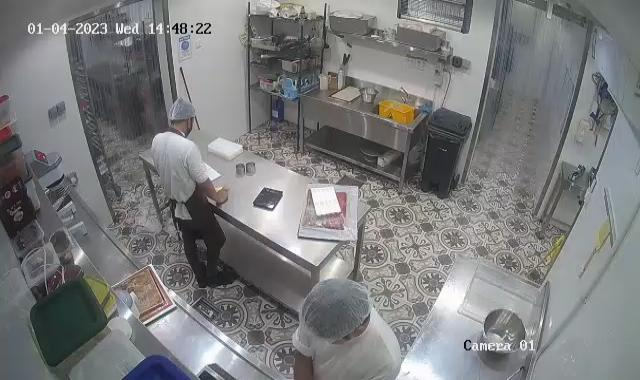hairnet: (300, 276, 373, 345), (167, 94, 197, 125)
